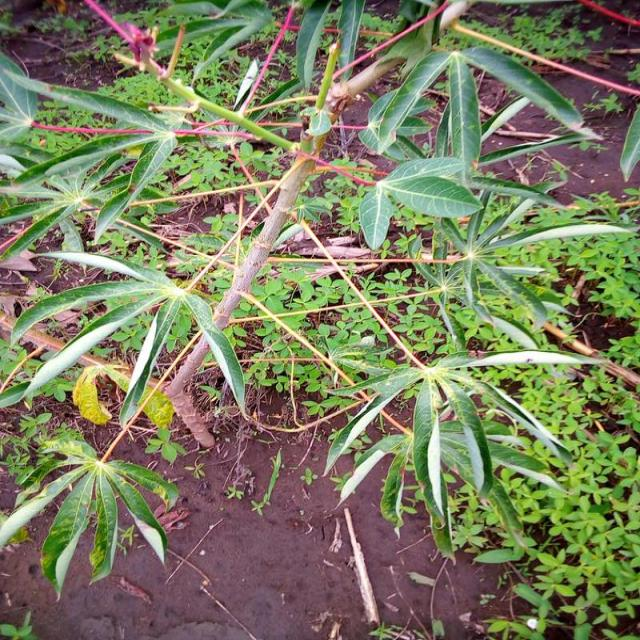cassava leaf: (2, 3, 636, 600), (358, 154, 482, 250)
